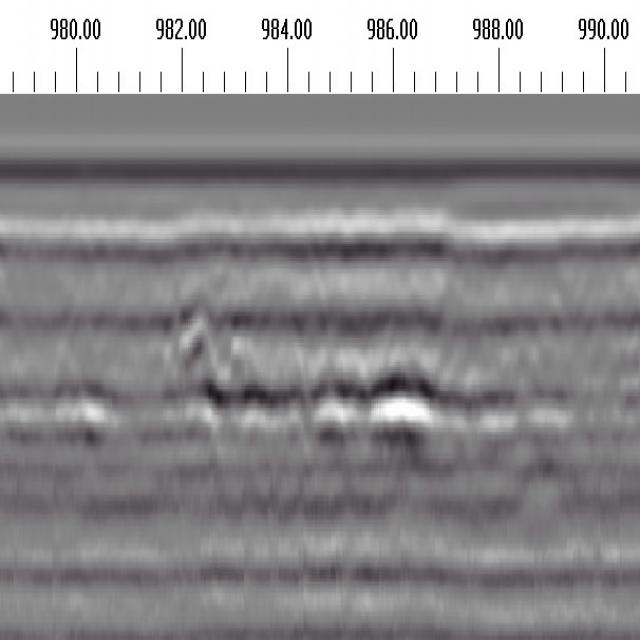loose: (173, 296, 444, 436)
